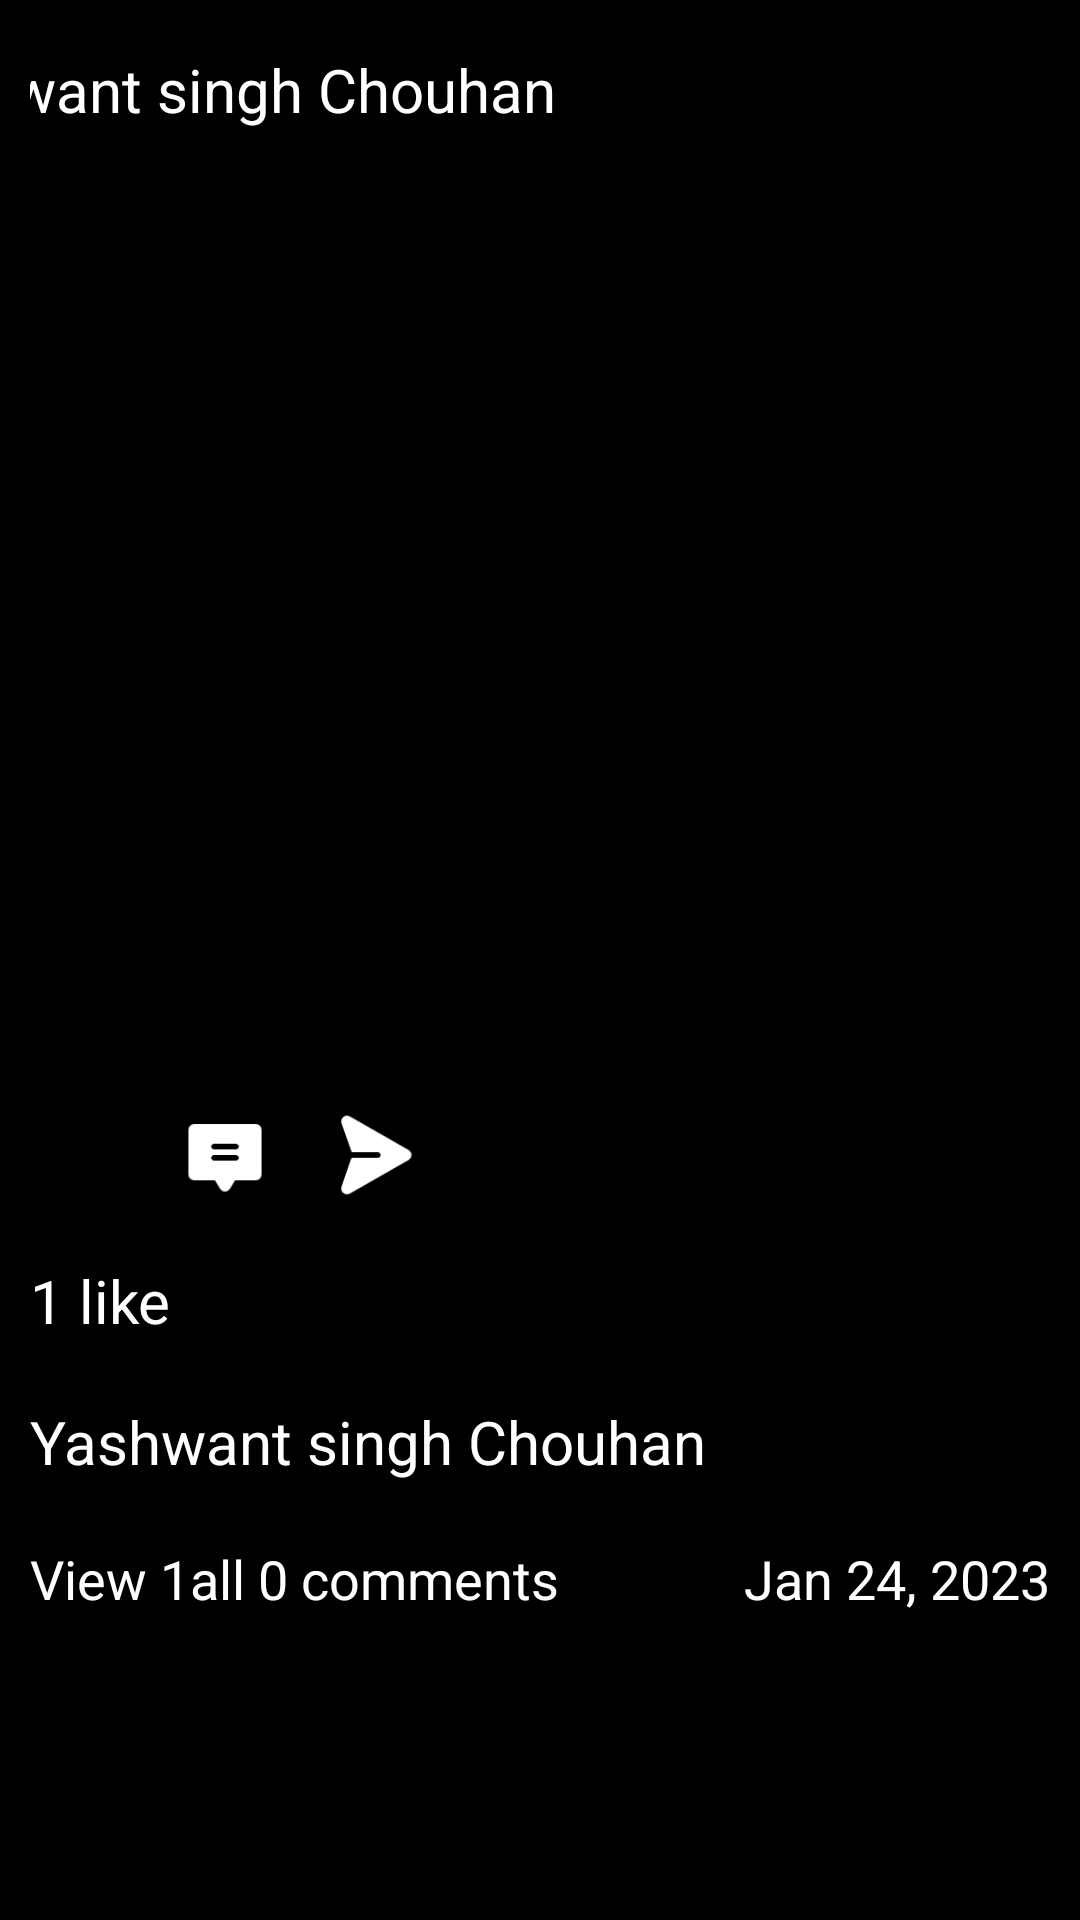

Icon click points for this 1080px×1920px phone screenshot, format (x,y):
send: (376,1155)
